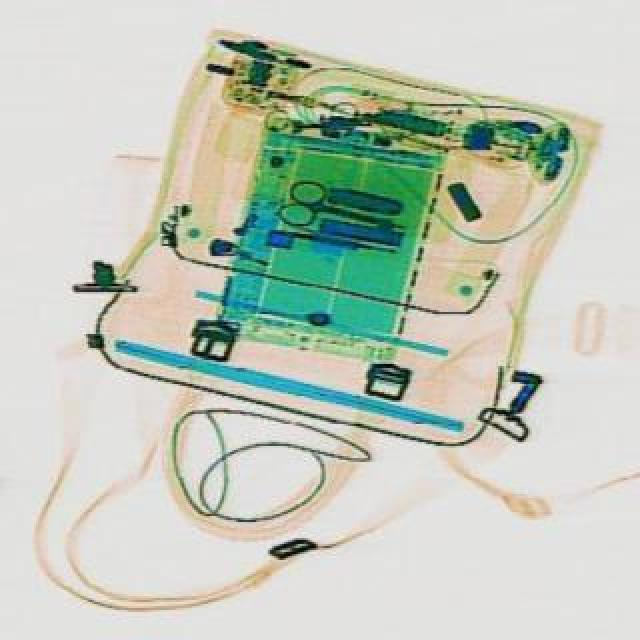pliers: (274, 174, 410, 250)
